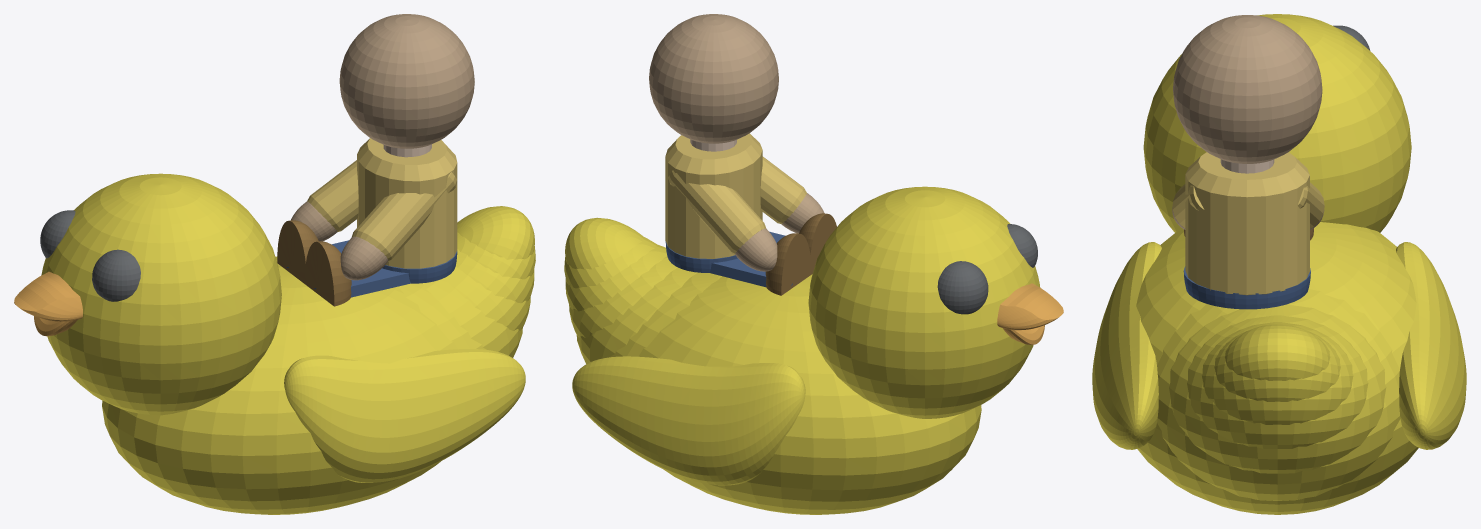
Rendered from asset.glb.
The picture shows the model from 3 angles, left to right: view 1: azimuth 30°, elevation 25°; view 2: azimuth 150°, elevation 25°; view 3: azimuth 270°, elevation 25°; orthographic projection. The views are drawn at different scales.
Visible parts, largest first — view 1: Mesh_Mesh_head_geo.001_lambert2SG.001; view 2: Mesh_Mesh_head_geo.001_lambert2SG.001; view 3: Mesh_Mesh_head_geo.001_lambert2SG.001.
Boxes of the visible parts, x1,y1,x2,y2 form: Mesh_Mesh_head_geo.001_lambert2SG.001: (14, 14, 535, 514); Mesh_Mesh_head_geo.001_lambert2SG.001: (564, 14, 1063, 514); Mesh_Mesh_head_geo.001_lambert2SG.001: (1092, 14, 1466, 514).
Size of the model in its own units: 48.58 by 41.91 by 27.92.
